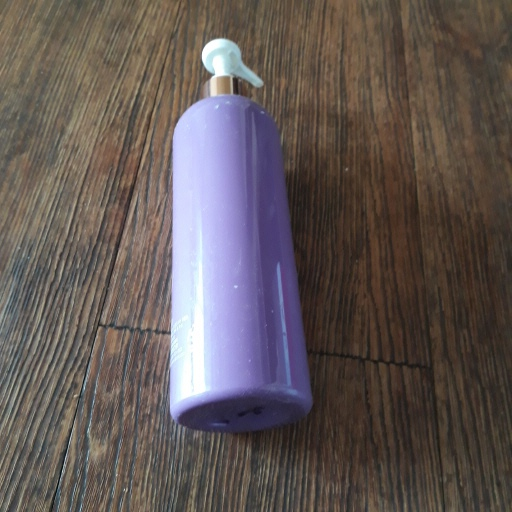Plastic_3: (163, 37, 313, 435)
